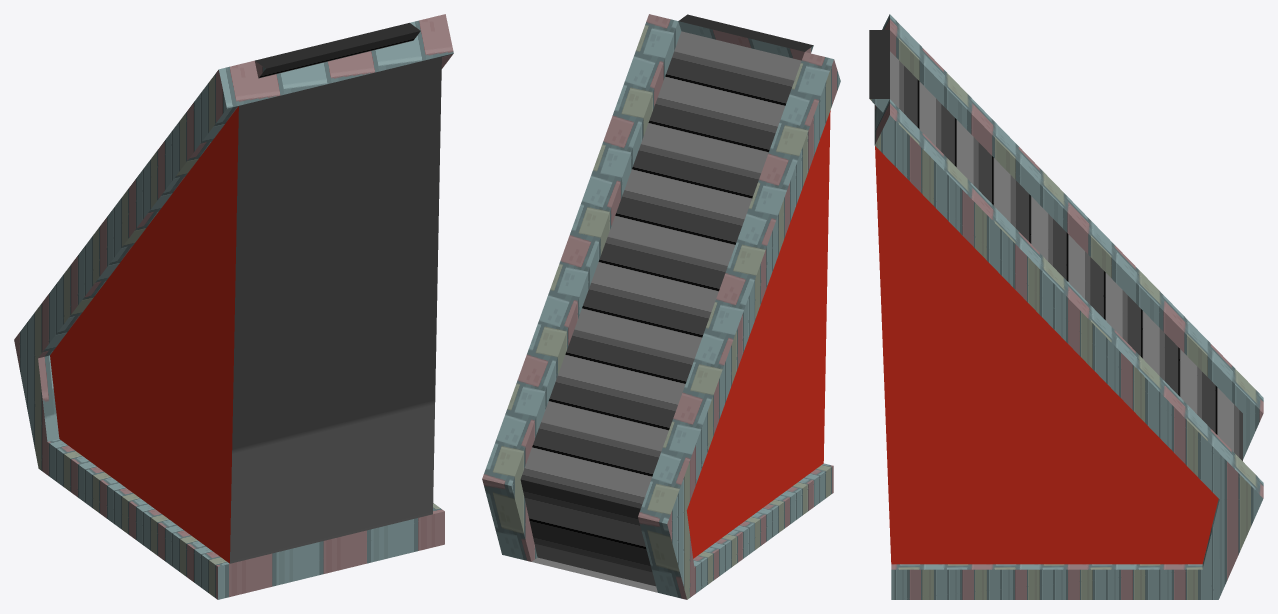
File: Escalera 1.fbx
3 renders of one model, left to right at view 1: azimuth 30°, elevation 25°; view 2: azimuth 150°, elevation 25°; view 3: azimuth 270°, elevation 25°, orthographic. The views are drawn at different scales.
Visible parts, largest first — view 1: bule; view 2: bule; view 3: bule.
Boxes of the visible parts, box(x1,y1,x2,y2) form: bule: box(14, 14, 453, 599); bule: box(482, 14, 840, 599); bule: box(869, 14, 1263, 599).
Bounding box in the file's own units: 400 × 895 × 659.
